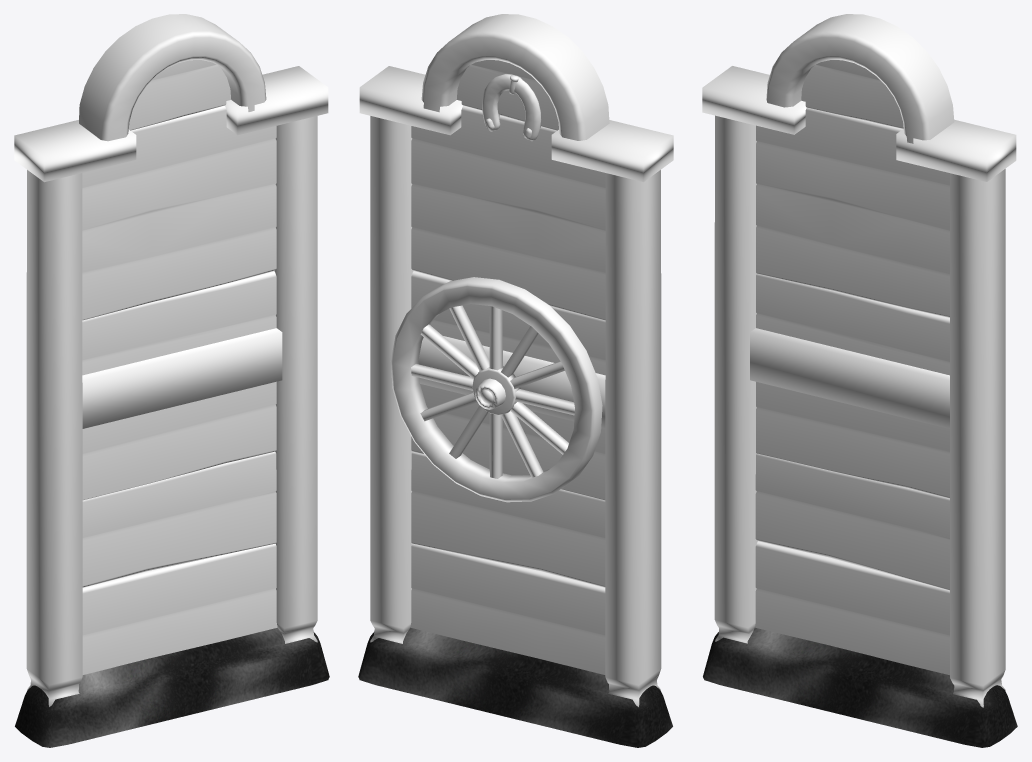
Rendered from WildWestBarrierTall.glb.
The picture shows the model from 3 angles, left to right: view 1: azimuth 30°, elevation 25°; view 2: azimuth 150°, elevation 25°; view 3: azimuth 330°, elevation 25°; orthographic projection.
Parts seen in each view (by area): view 1: BarrierHologram, SmokeTall; view 2: BarrierHologram, SmokeTall; view 3: BarrierHologram, SmokeTall.
Boxes of the visible parts, <box> form: BarrierHologram: <box>14,14,328,706</box>; SmokeTall: <box>15,627,329,747</box>; BarrierHologram: <box>359,14,673,706</box>; SmokeTall: <box>358,627,672,747</box>; BarrierHologram: <box>702,14,1016,707</box>; SmokeTall: <box>703,627,1017,747</box>.
Bounding box in the file's own units: 1.08 × 2.4 × 0.3056.
Materials: 3 (2 with a texture image).
